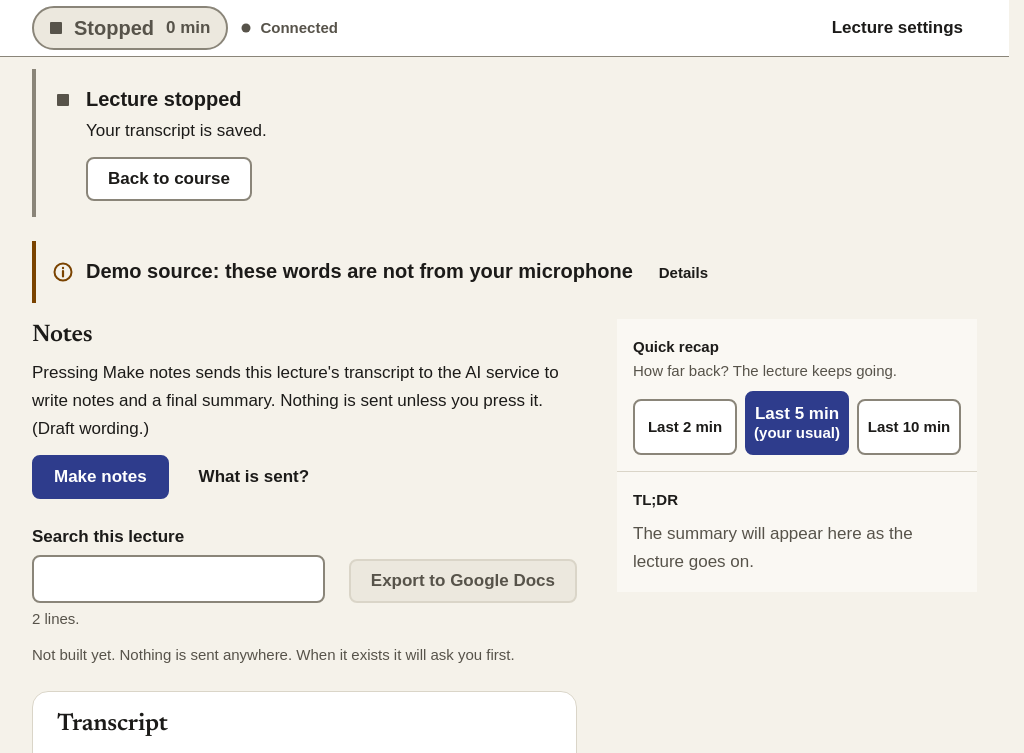
it: Notes block before any press (1.3, 1.9 AC1) › What is sent? opens in place, keeps focus, announces nothing
The width and height of the screenshot is (1024, 753).
Click the button "What is sent?".
click(254, 477)  # box x1=185 y1=455 x2=323 y2=499
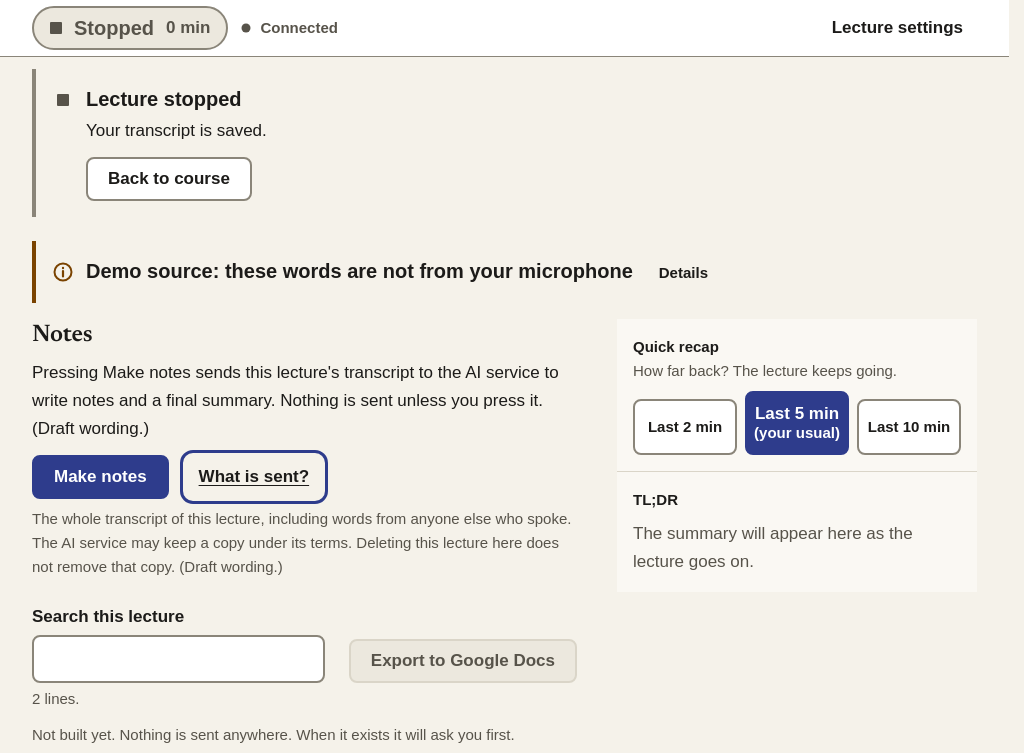
Check: the button "What is sent?" is expanded
Check: the text with id "notes-what-body" is shown, box x1=32 y1=507 x2=577 y2=579
Click the button "What is sent?".
click(254, 477)  # box x1=185 y1=455 x2=323 y2=499
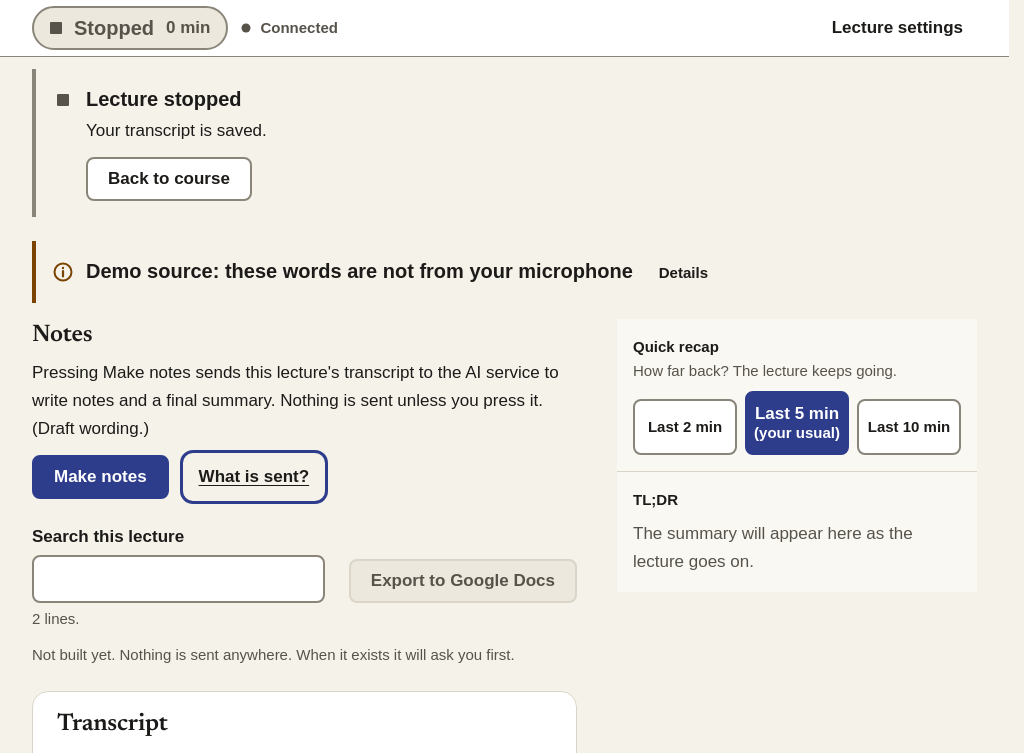
Check: the text with id "notes-what-body" is gone
